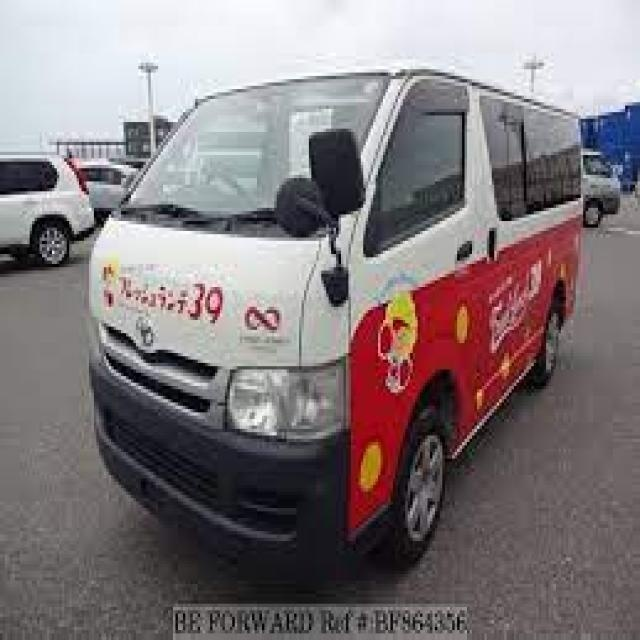Van: (94, 59, 595, 541)
